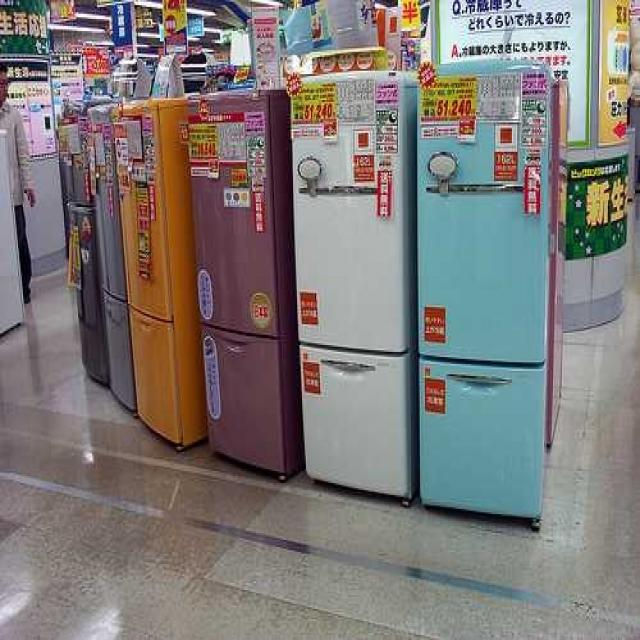refrigerator: (416, 61, 542, 520), (288, 70, 406, 498), (194, 86, 278, 465), (113, 102, 184, 445), (87, 103, 136, 410), (61, 99, 106, 383)
